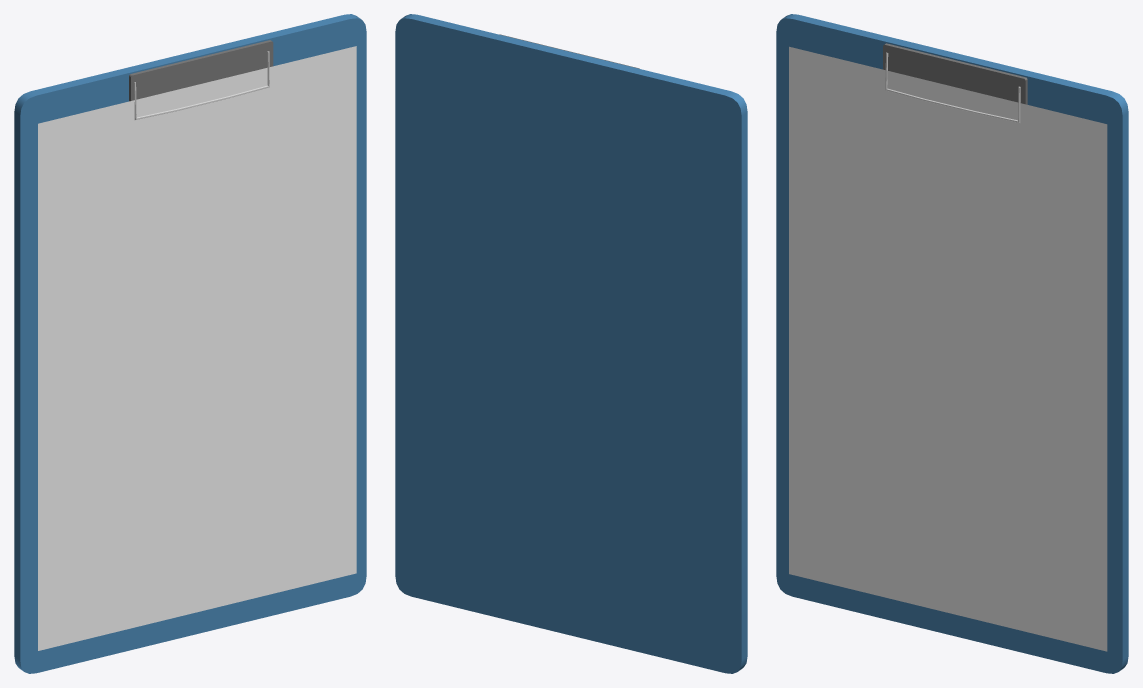
The model's file is ContactList.FBX.
3 views of the same model, side by side, from view 1: azimuth 30°, elevation 25°; view 2: azimuth 150°, elevation 25°; view 3: azimuth 330°, elevation 25° (orthographic).
Parts seen in each view (by area): view 1: ContactList; view 2: ContactList; view 3: ContactList.
Part boxes in pixels (x1,y1,x2,y2): ContactList: (14,14,366,673); ContactList: (395,14,747,673); ContactList: (776,14,1128,673).
Size of the model in its own units: 23.98 by 38.23 by 1.26.
